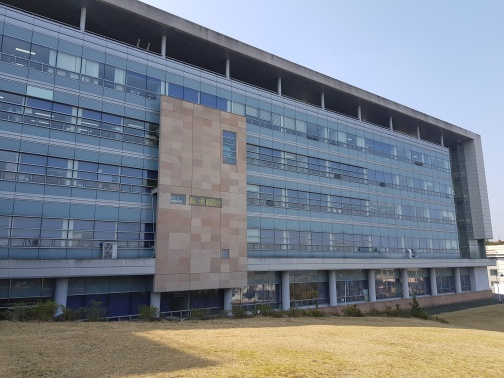Engineering College Building 4: (12, 33, 480, 303), (275, 110, 468, 295), (147, 95, 251, 288)
